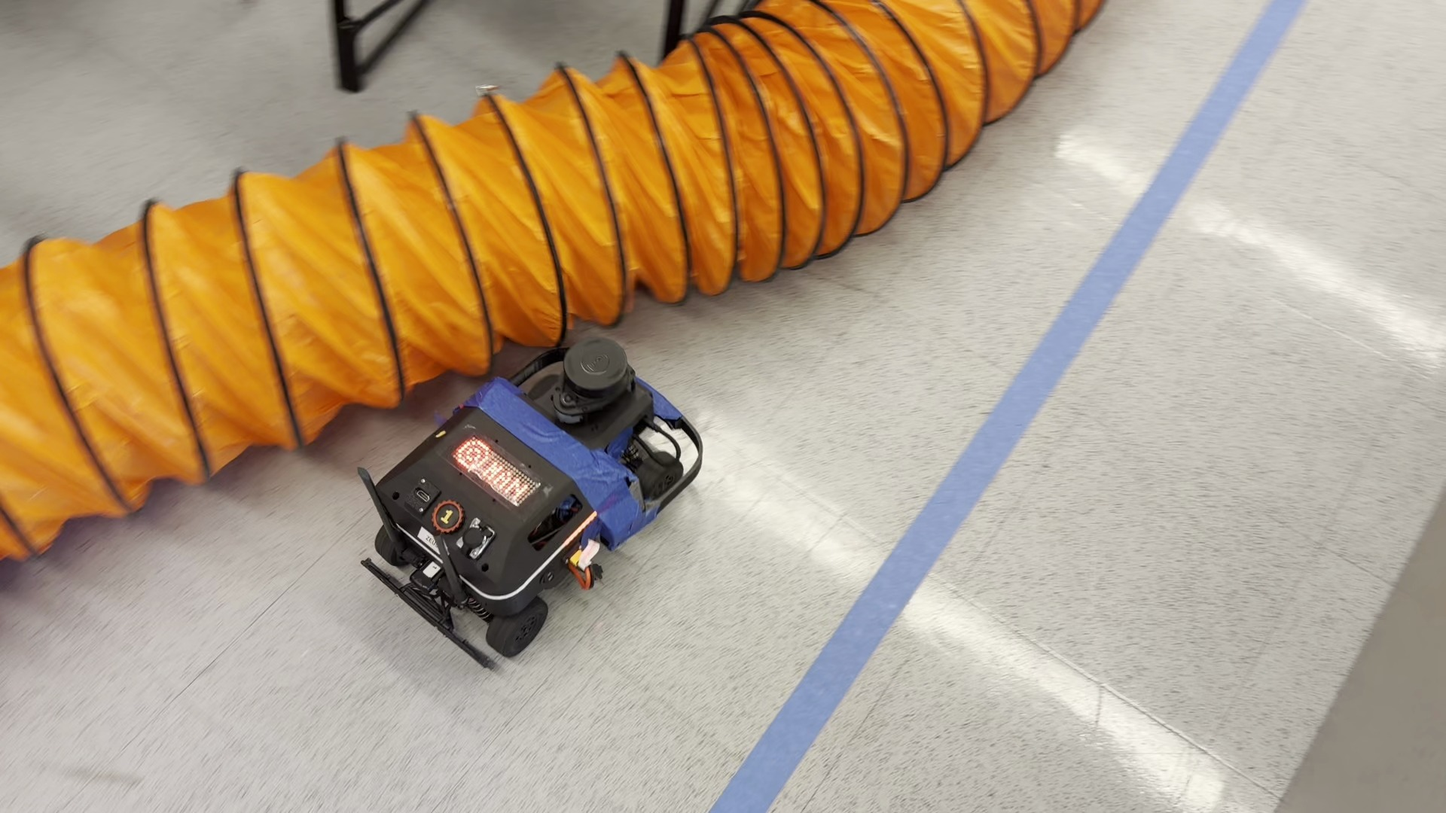racecar: (356, 335, 705, 664)
